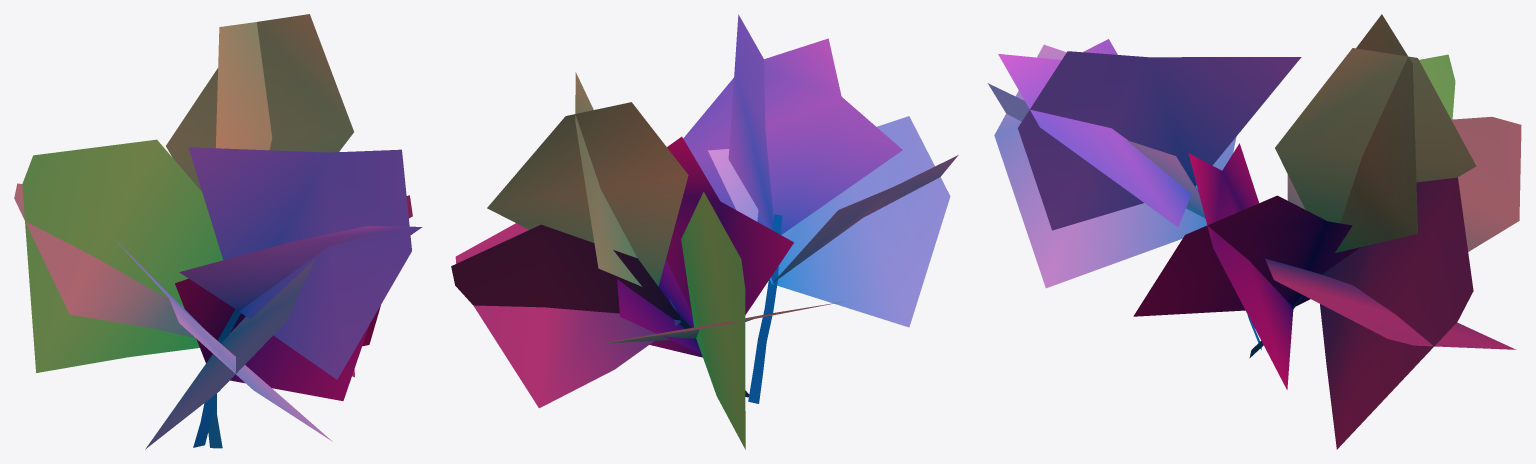
The model's file is European_Spindle_wk1ncbxja_Mid_wk1ncbxja_VarF_LOD2.fbx.
The picture shows the model from 3 angles, left to right: view 1: azimuth 30°, elevation 25°; view 2: azimuth 150°, elevation 25°; view 3: azimuth 270°, elevation 25°; orthographic projection. The views are drawn at different scales.
Parts seen in each view (by area): view 1: _wwjb_VarF_LOD3; view 2: _wwjb_VarF_LOD3; view 3: _wwjb_VarF_LOD3.
Part boxes in pixels (x1=…): _wwjb_VarF_LOD3: x1=14, y1=14, x2=422, y2=449; _wwjb_VarF_LOD3: x1=451, y1=14, x2=958, y2=449; _wwjb_VarF_LOD3: x1=987, y1=14, x2=1521, y2=449.
Size of the model in its own units: 26.65 by 23.65 by 29.89.
